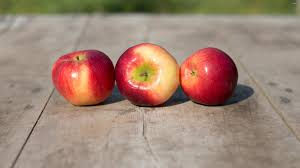apple: (114, 43, 180, 105), (182, 46, 240, 109), (54, 53, 116, 109)
